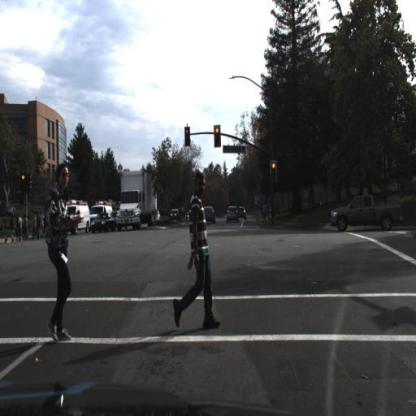biker: (38, 211, 46, 239)
car: (332, 192, 403, 232), (54, 204, 91, 235), (90, 203, 116, 228), (92, 212, 116, 233), (201, 204, 219, 230), (202, 204, 218, 227), (228, 206, 240, 226)
pedestrian: (166, 174, 230, 333), (46, 157, 75, 338), (45, 164, 74, 342), (30, 208, 40, 242), (115, 199, 125, 230), (32, 210, 40, 240), (262, 199, 271, 223), (9, 213, 16, 243), (37, 211, 44, 241), (23, 214, 29, 243), (19, 214, 24, 245), (17, 217, 22, 241)
trafficLight-Red: (213, 122, 222, 150), (270, 158, 279, 184)
trafficLight-RedLeft: (184, 123, 192, 145), (20, 172, 28, 192)
truck: (117, 171, 159, 232), (58, 201, 91, 236), (89, 202, 113, 226)
